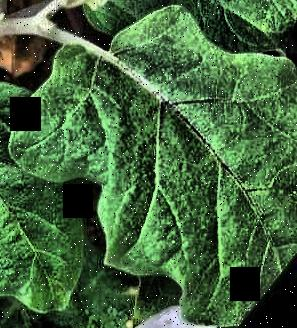HEALTHY: (1, 1, 297, 328)
